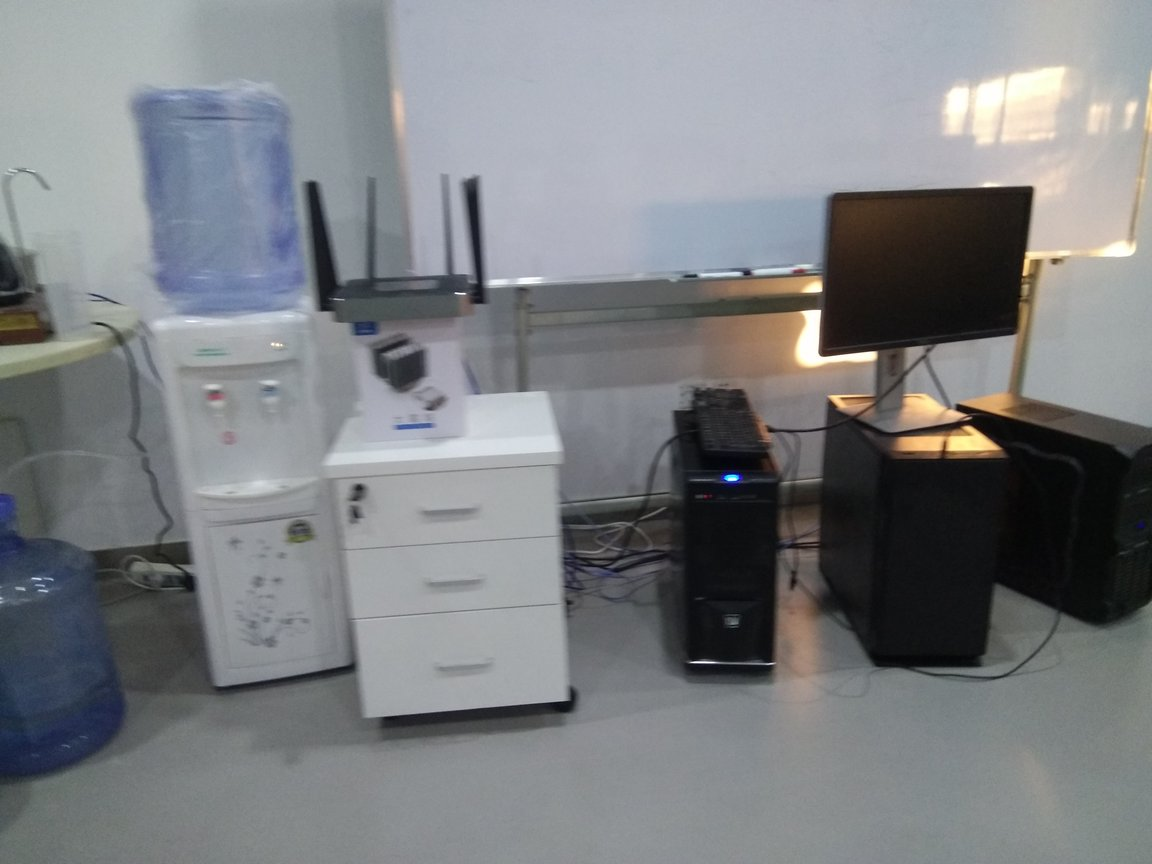computer: (815, 387, 1001, 662), (953, 393, 1152, 622), (663, 401, 785, 687)
drawer chest: (326, 389, 587, 723)
monitor: (809, 180, 1028, 438)
scuttlebutt: (1, 478, 134, 784), (130, 83, 308, 306)
water dispenser: (157, 298, 354, 707)
